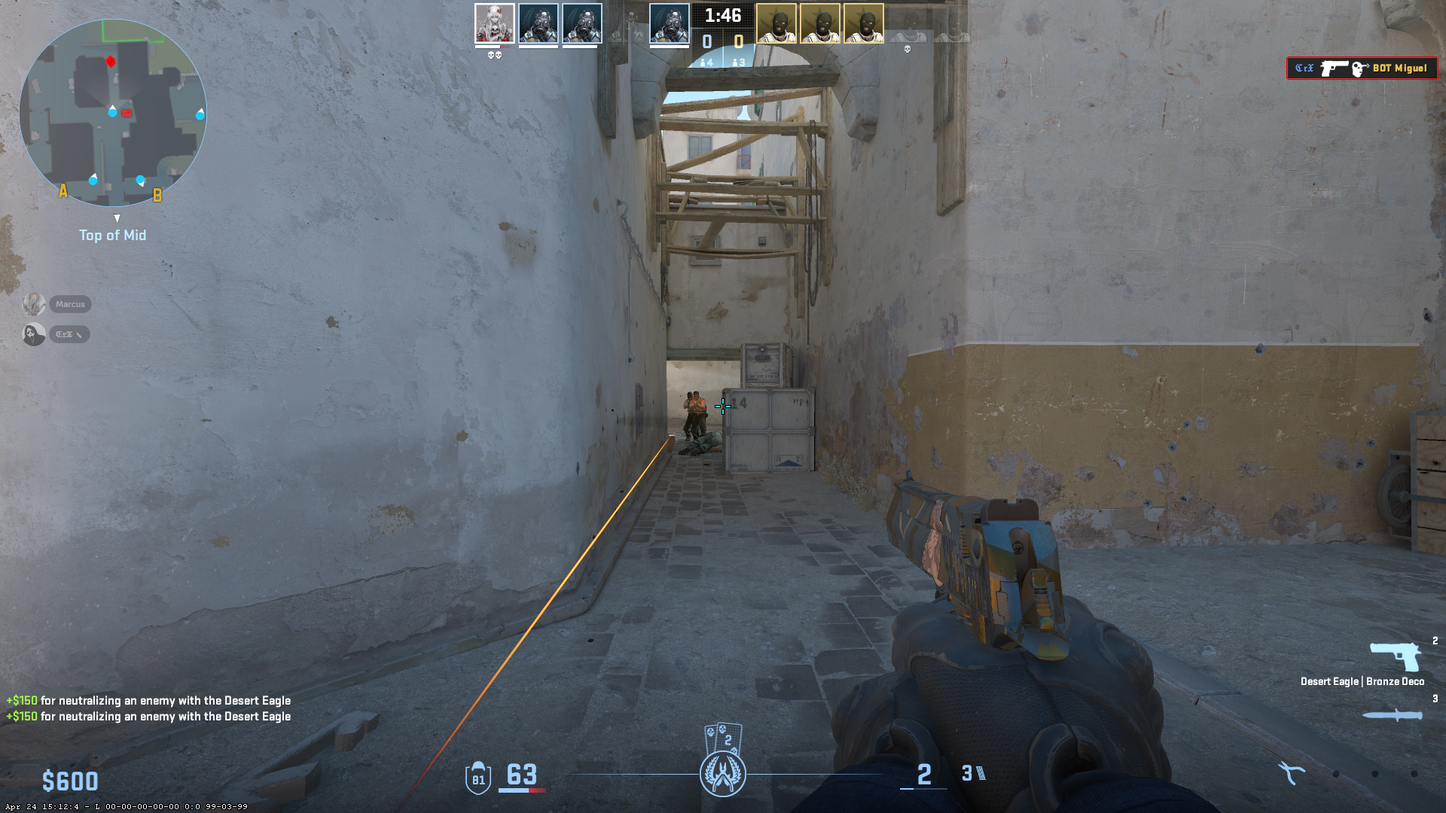T: (690, 390, 706, 440), (684, 392, 693, 441)
